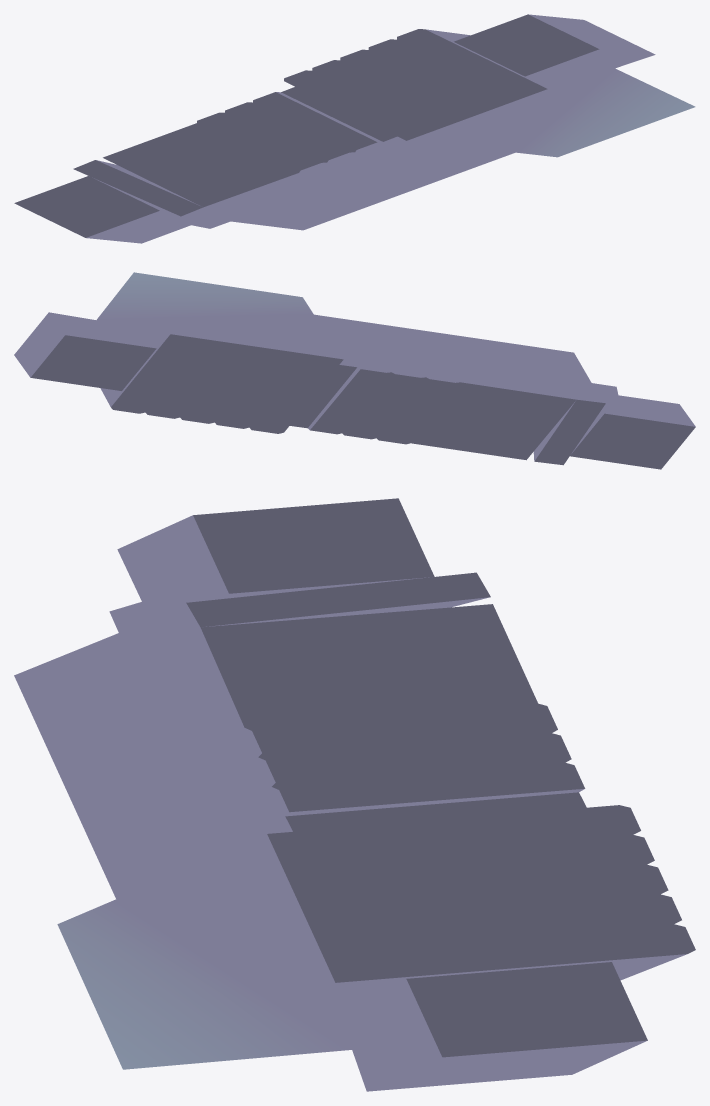
3 renders of one model, top to bottom at view 1: azimuth 30°, elevation 25°; view 2: azimuth 150°, elevation 25°; view 3: azimuth 270°, elevation 25°, orthographic. The views are drawn at different scales.
Visible parts, largest first — view 1: Joint_0_Object_0; view 2: Joint_0_Object_0; view 3: Joint_0_Object_0.
Part boxes in pixels (x1,y1,x2,y2): Joint_0_Object_0: [14, 14, 694, 243]; Joint_0_Object_0: [14, 272, 695, 469]; Joint_0_Object_0: [14, 498, 695, 1091].
Bounding box in the file's own units: 1407 × 0 × 684.
1 material, 1 textured.
